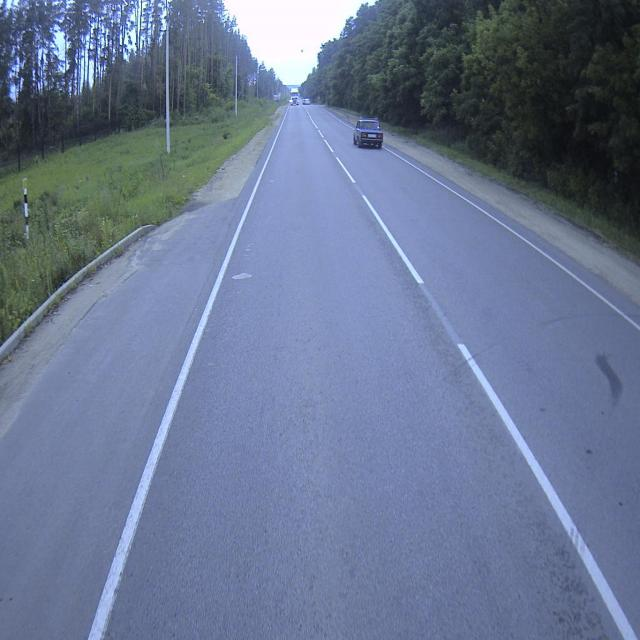road: (0, 104, 640, 639)
